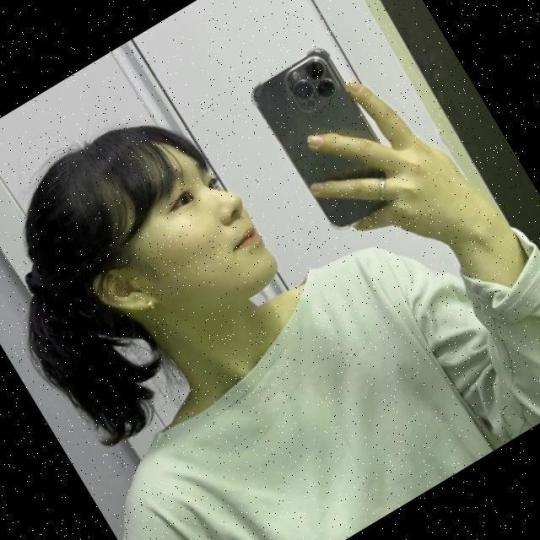phone: (234, 48, 413, 234)
